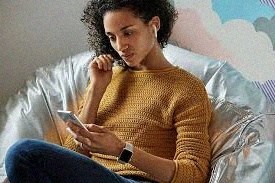earphone: (149, 16, 161, 38)
